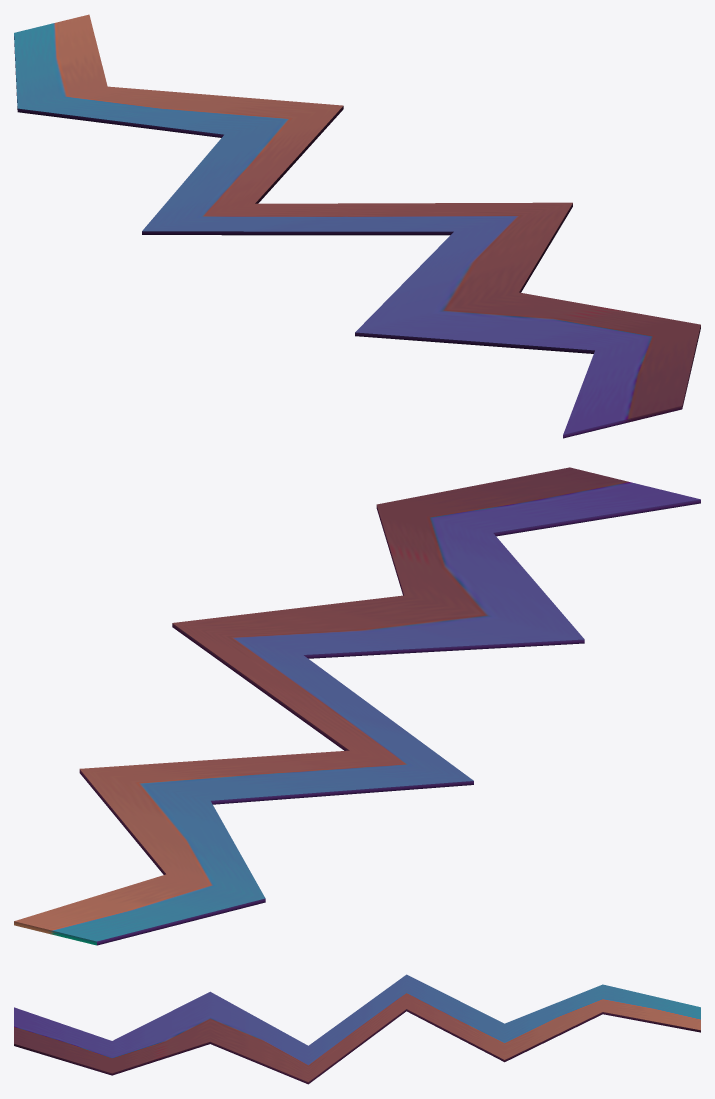
The model's file is ObsPath.fbx.
3 views of the same model, one above another, from view 1: azimuth 30°, elevation 25°; view 2: azimuth 150°, elevation 25°; view 3: azimuth 270°, elevation 25° (orthographic). The views are drawn at different scales.
Parts seen in each view (by area): view 1: pCube1; view 2: pCube1; view 3: pCube1.
Part boxes in pixels (x1,y1,x2,y2): pCube1: [14, 14, 700, 438]; pCube1: [14, 467, 700, 945]; pCube1: [14, 974, 700, 1084].
Bounding box in the file's own units: 9.99 × 0.1 × 26.93.
1 material, 1 textured.
